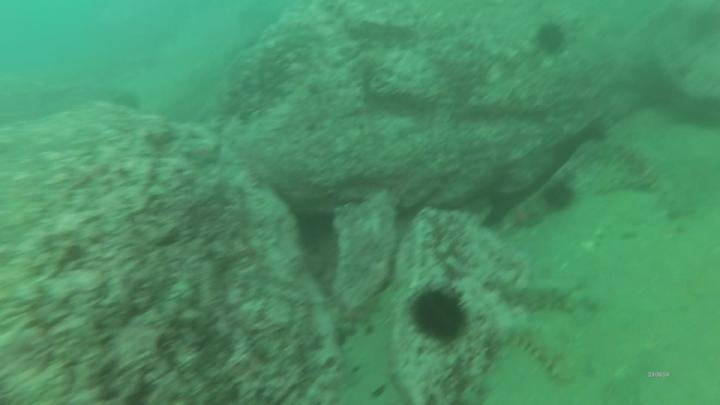echinus: (407, 275, 475, 349), (535, 24, 571, 55), (545, 180, 577, 211)
holothurian: (501, 322, 575, 390), (497, 285, 585, 316)
starfish: (185, 141, 229, 169), (509, 201, 542, 232)
